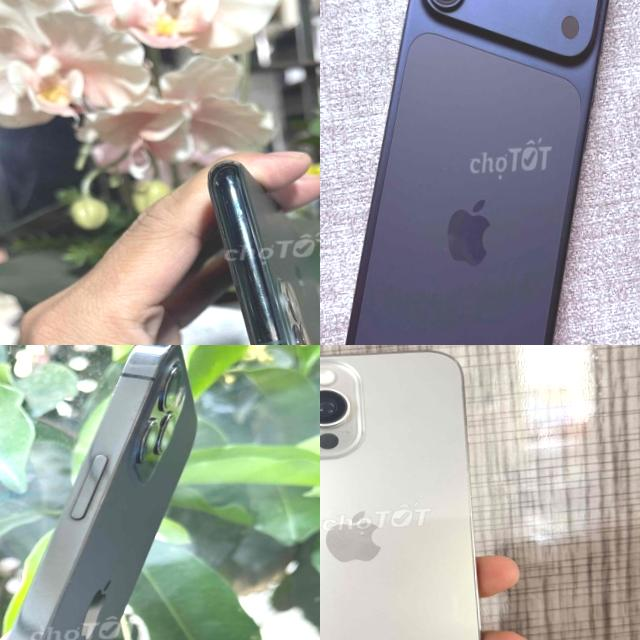gen_11: (193, 140, 320, 345)
gen_12_13: (0, 345, 231, 640)
gen_15: (320, 345, 497, 640)
gen_17: (320, 0, 640, 345)
scratch: (256, 331, 315, 345)
